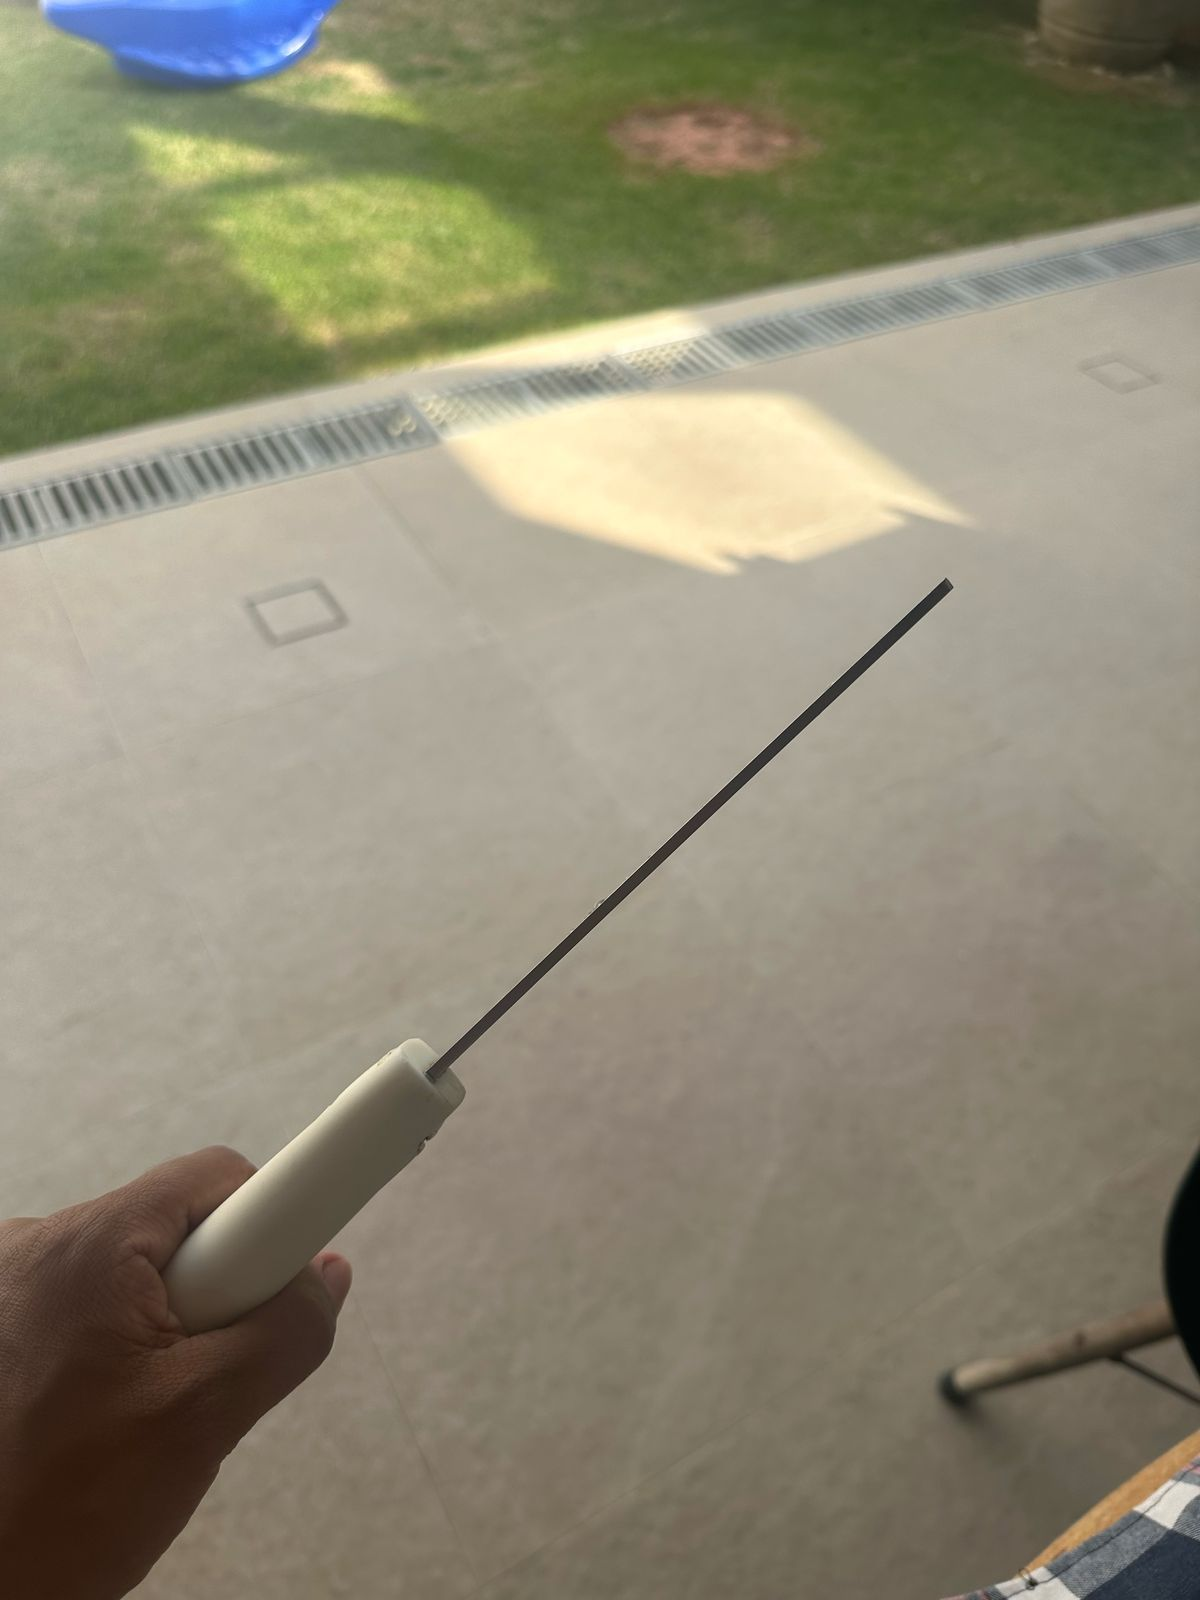faca: (272, 554, 964, 1226)
